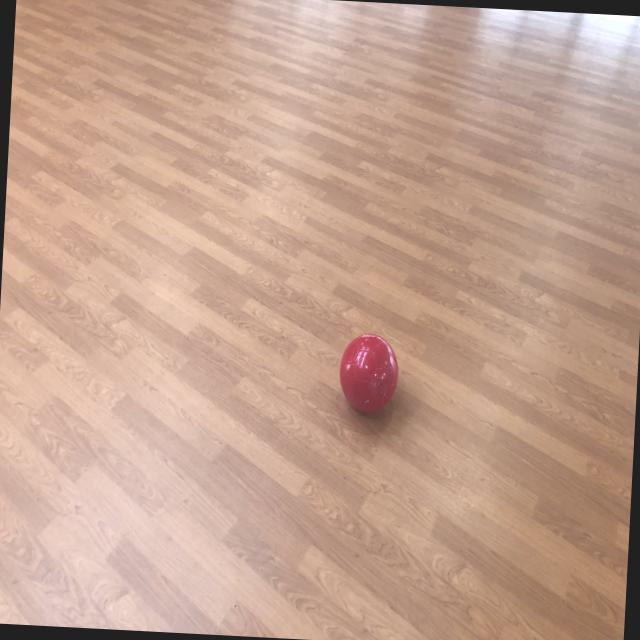red_ball: (338, 333, 401, 417)
